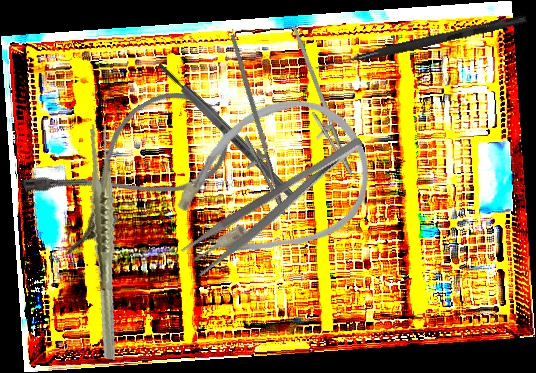Cannula: (143, 74, 391, 297), (17, 73, 244, 260)
Dressing Forceps: (178, 131, 377, 280)
Hook Surgical: (313, 11, 528, 76)
Needle Holder: (196, 33, 308, 222), (264, 25, 371, 182)
Scalpel Handle: (155, 59, 298, 203)
Tissue Forceps: (58, 123, 149, 360)
